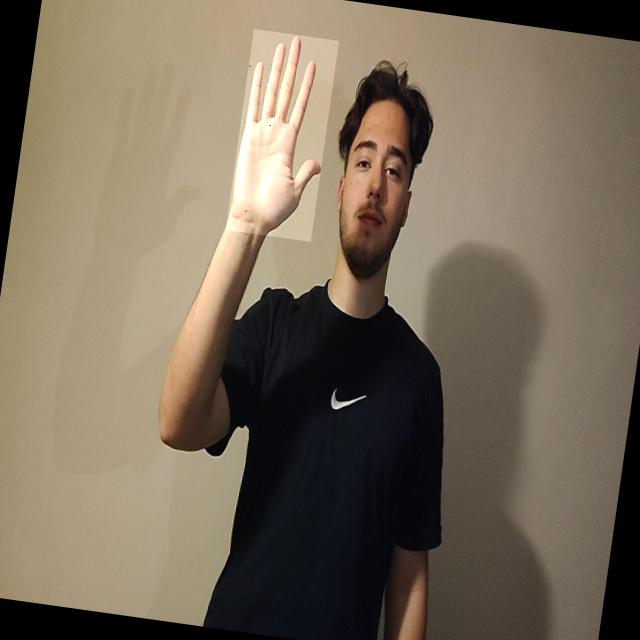hello: (226, 29, 339, 242)
